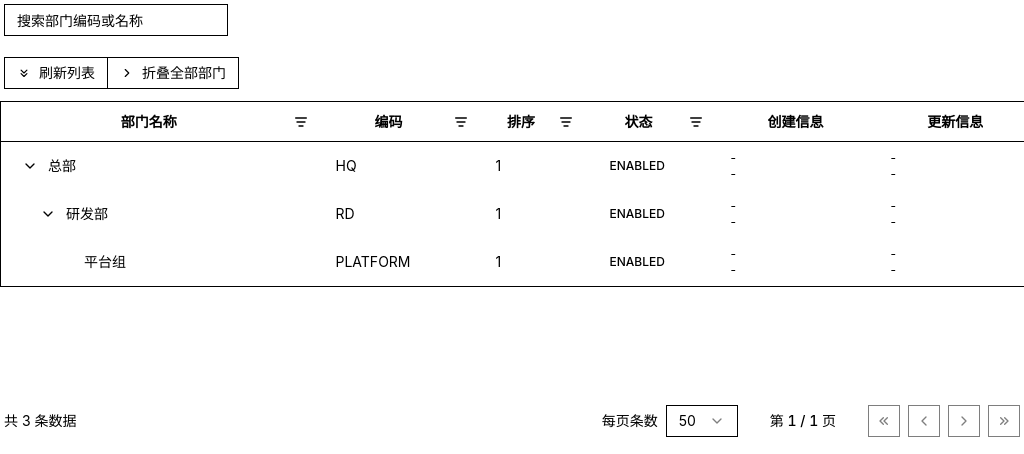
Scenario: DeptDataTable tree expansion › 使用表格操作区按钮切换全部部门的展开状态
This screenshot has width=1024, height=454.
Click the button "折叠全部部门". click: {"x": 174, "y": 73}
box: [108,57,239,89]
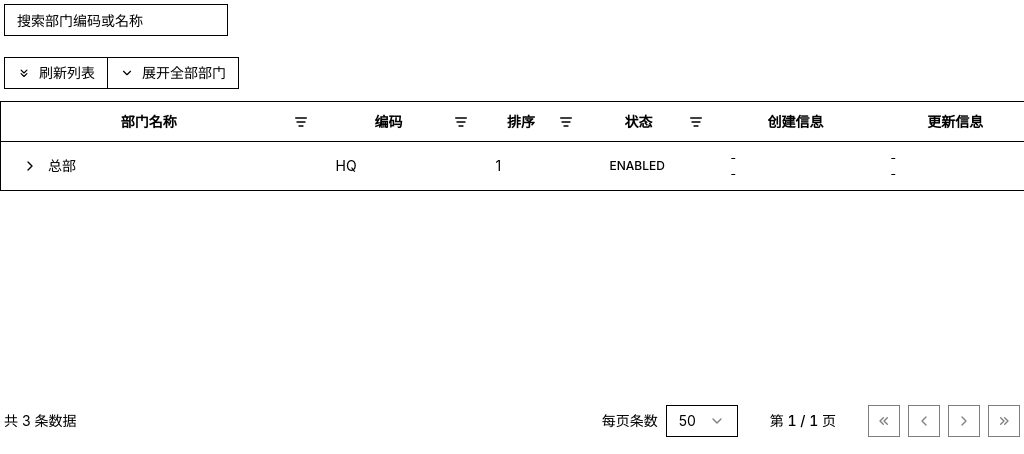
Result: the button "研发部" is gone
Click the button "展开全部部门". click: {"x": 174, "y": 73}
box: [108,57,239,89]
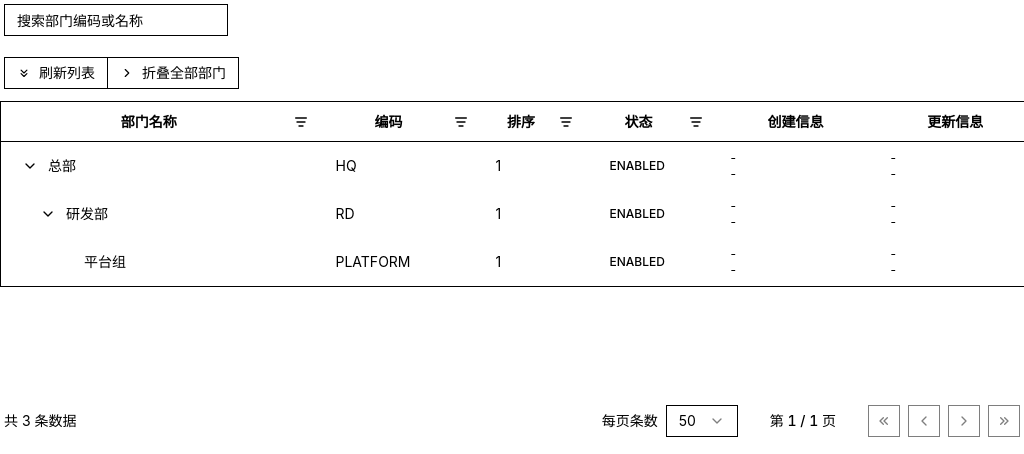
Result: the text "研发部" is shown at [66,204,108,224]
Result: the text "平台组" is shown at [84,252,126,272]
